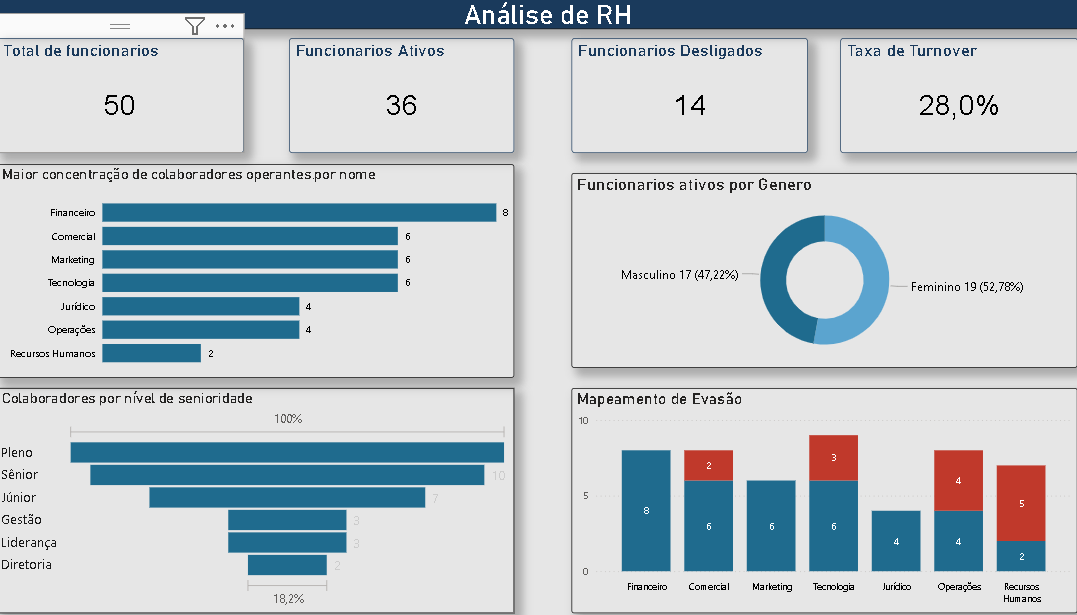

Layout of this report page (visuals, bound fields, positions):
{"tool":"powerbi","page":{"name":"Página 1","canvas":[1280,720],"ordinal":0},"visuals":[{"type":"textbox","title":"Análise de RH","box":[8.7,0,1271.1,36.1],"z":0},{"type":"card","title":"Total de funcionarios","fields":{"Values":["Funcionarios.Volume total funcionarios"]},"box":[8.7,46.2,285.7,132.7],"z":1000},{"type":"card","title":"Funcionarios Ativos","fields":{"Values":["Funcionarios.Funcionarios ativos"]},"box":[346.3,46.2,259.7,132.7],"z":2000},{"type":"card","title":"Funcionarios Desligados","fields":{"Values":["Funcionarios.Funcionarios desligados"]},"box":[672.3,46.2,272.7,132.7],"z":3000},{"type":"card","title":"Taxa de Turnover","fields":{"Values":["Funcionarios.Taxa de turnover"]},"box":[982.5,46.2,274.1,132.7],"z":4000},{"type":"donutChart","fields":{"Y":["Funcionarios.Funcionarios ativos"],"Category":["Funcionarios.Genero"]},"box":[672.3,202,584.3,225.1],"z":5000},{"type":"clusteredBarChart","title":"Maior concentração de colaboradores operantes.por nome","fields":{"Y":["Funcionarios.Funcionarios ativos"],"Category":["Departamentos.Nome"]},"box":[8.7,191.9,597.3,246.7],"z":6000},{"type":"columnChart","title":"Mapeamento de Evasão","fields":{"Category":["Departamentos.Nome"],"Y":["Funcionarios.Funcionarios ativos","Funcionarios.Funcionarios desligados"]},"box":[672.4,449.7,584.2,260.3],"z":7000},{"type":"funnel","title":"Colaboradores por nível de senioridade","fields":{"Category":["Cargos.Nivel"],"Y":["Funcionarios.Funcionarios ativos"]},"box":[8.7,449.7,597.2,260.3],"z":8000}]}

Visuals, with their boxes in screenshot pixels (x1, y1, x2, y2):
"Análise de RH" textbox: Rect(0, 0, 1076, 28)
"Total de funcionarios" card: Rect(0, 37, 245, 151)
"Funcionarios Ativos" card: Rect(290, 37, 513, 151)
"Funcionarios Desligados" card: Rect(570, 37, 805, 151)
"Taxa de Turnover" card: Rect(837, 37, 1073, 151)
donutChart - Funcionarios.Funcionarios ativos x Funcionarios.Genero: Rect(570, 171, 1073, 365)
"Maior concentração de colaboradores operantes.por nome" clusteredBarChart: Rect(0, 162, 513, 375)
"Mapeamento de Evasão" columnChart: Rect(570, 384, 1073, 608)
"Colaboradores por nível de senioridade" funnel: Rect(0, 384, 513, 608)
